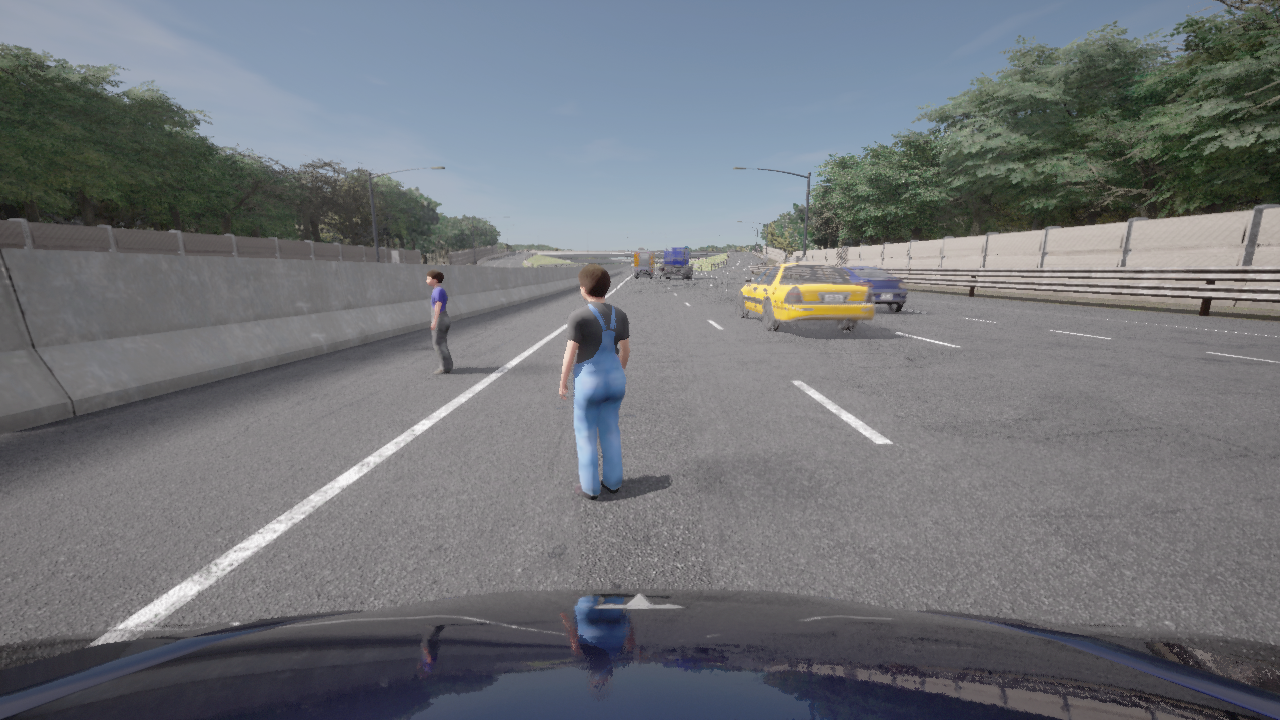cyclist: (0, 588, 1279, 719), (737, 256, 874, 331), (838, 265, 908, 312), (660, 246, 691, 279), (634, 248, 654, 273), (636, 264, 651, 276), (659, 275, 663, 285)
pedestrian: (560, 263, 630, 499), (427, 269, 453, 373), (442, 261, 444, 264)
